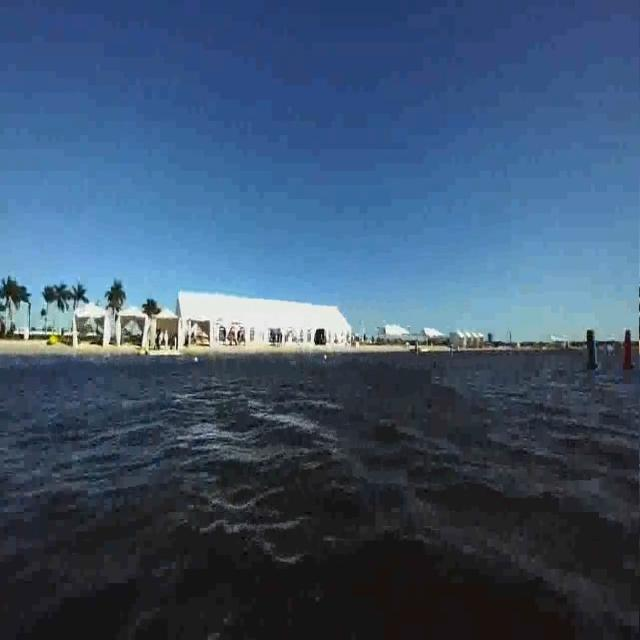red-column-buoy: (622, 328, 636, 371)
